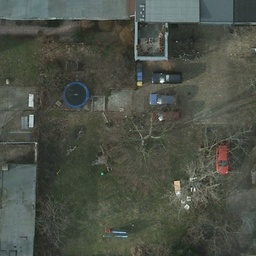car: (214, 145, 229, 176), (152, 110, 182, 124), (147, 92, 178, 105), (149, 71, 183, 82)
